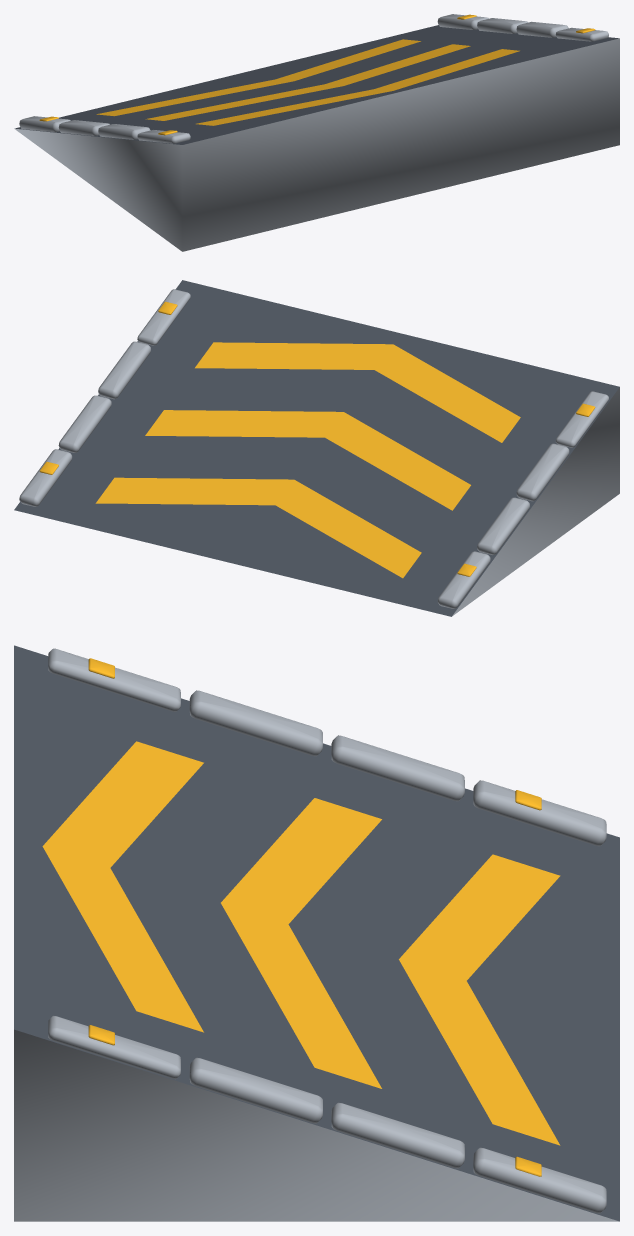
The model's file is deco-rampa.glb.
3 renders of one model, top to bottom at view 1: azimuth 30°, elevation 25°; view 2: azimuth 150°, elevation 25°; view 3: azimuth 270°, elevation 25°, orthographic. The views are drawn at different scales.
Visible parts, largest first — view 1: deco-rampa; view 2: deco-rampa; view 3: deco-rampa.
Boxes of the visible parts, x1,y1,x2,y2 form: deco-rampa: [14, 14, 619, 251]; deco-rampa: [14, 280, 619, 616]; deco-rampa: [14, 645, 619, 1221].
Bounding box in the file's own units: 15 × 3.5 × 10.
